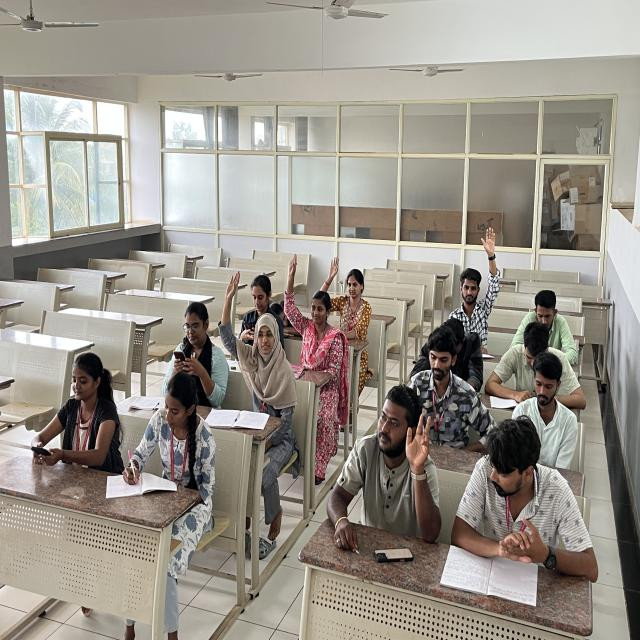Hand Rising: (320, 381, 453, 569), (221, 269, 295, 429), (280, 255, 340, 388), (448, 224, 504, 338), (327, 249, 377, 369)
Reading: (449, 420, 595, 624), (483, 320, 586, 418), (511, 286, 585, 369)
Using Phone: (16, 340, 128, 520), (156, 298, 232, 413), (236, 270, 276, 352)
Writing: (114, 368, 217, 518)
